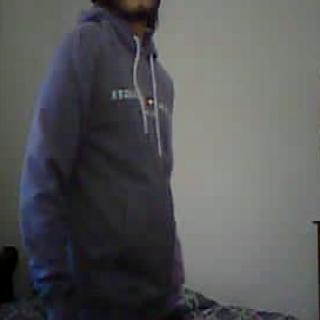Blue Hoodie: (22, 28, 182, 320)
